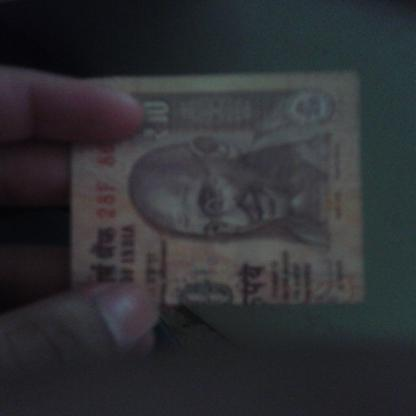Old10Front: (70, 71, 367, 307)
